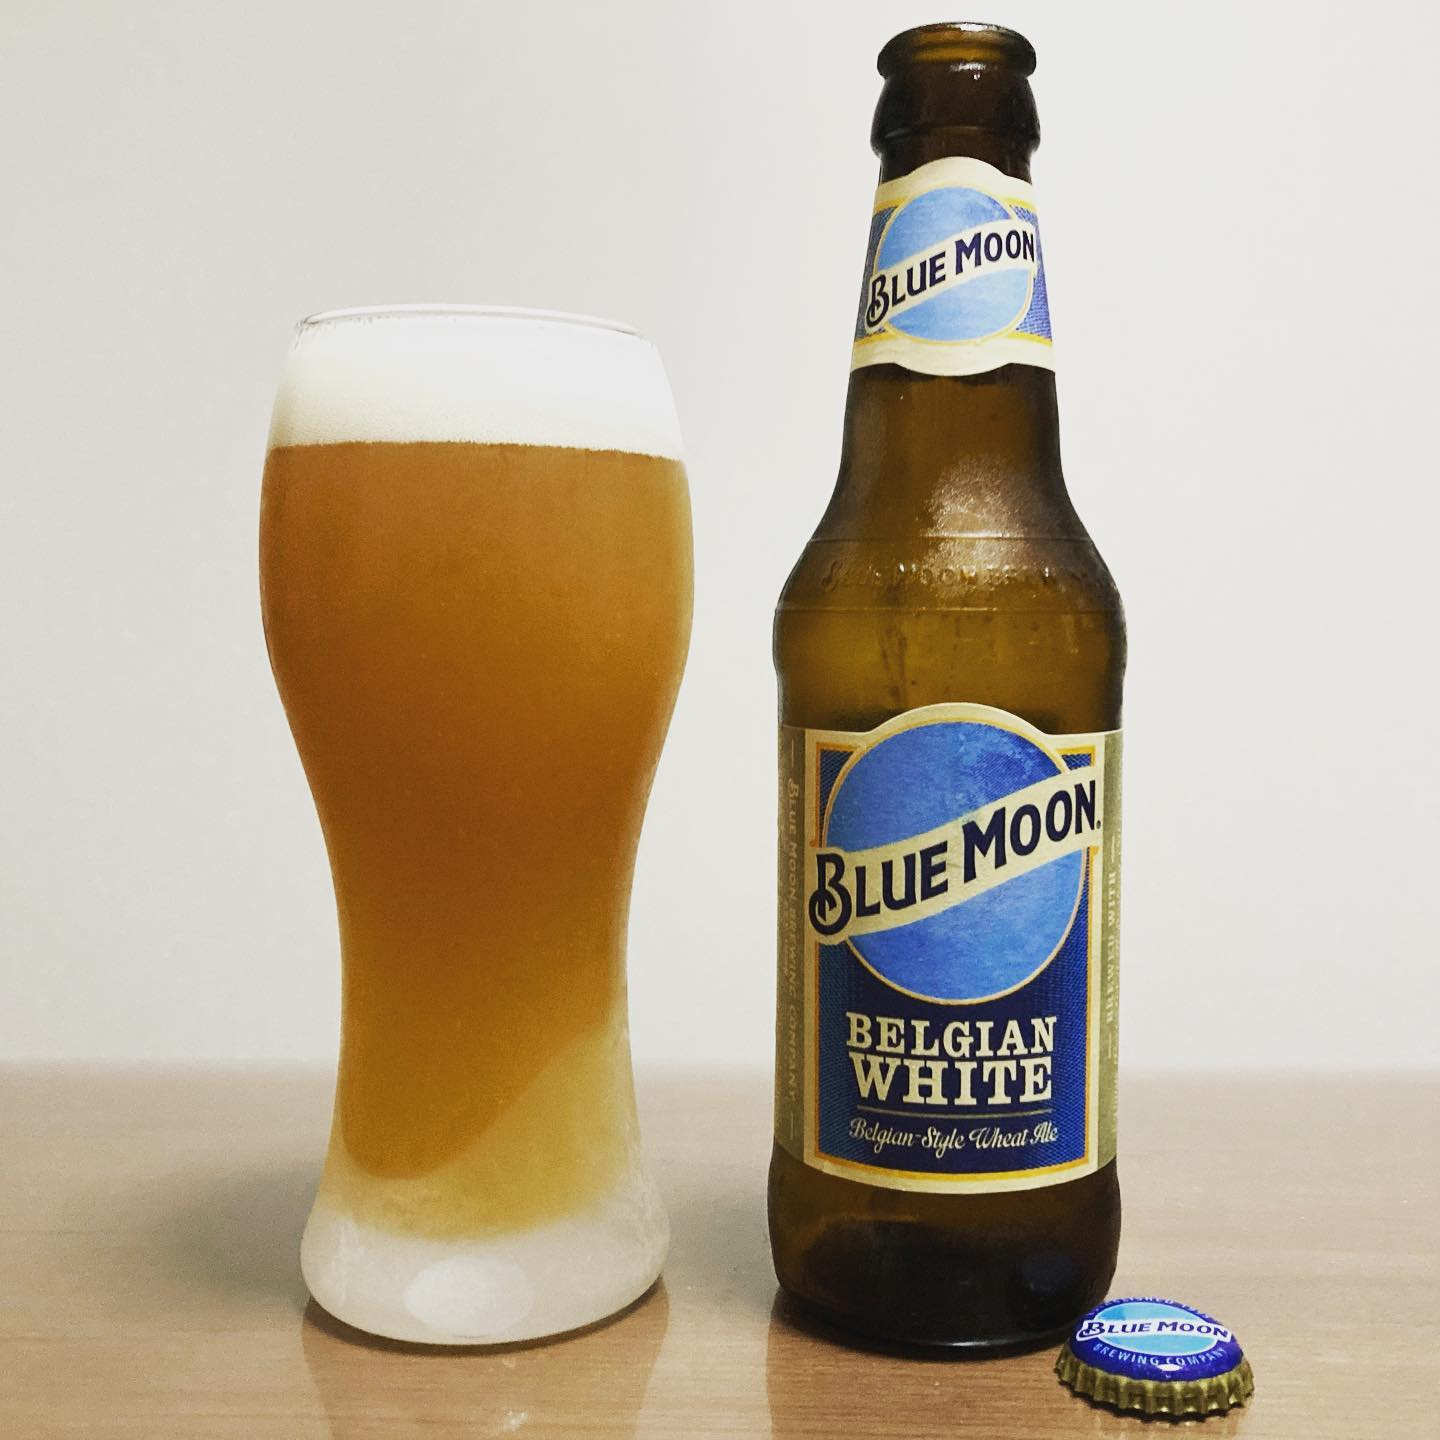alcohol: (761, 18, 1133, 1365), (251, 291, 702, 1367)
